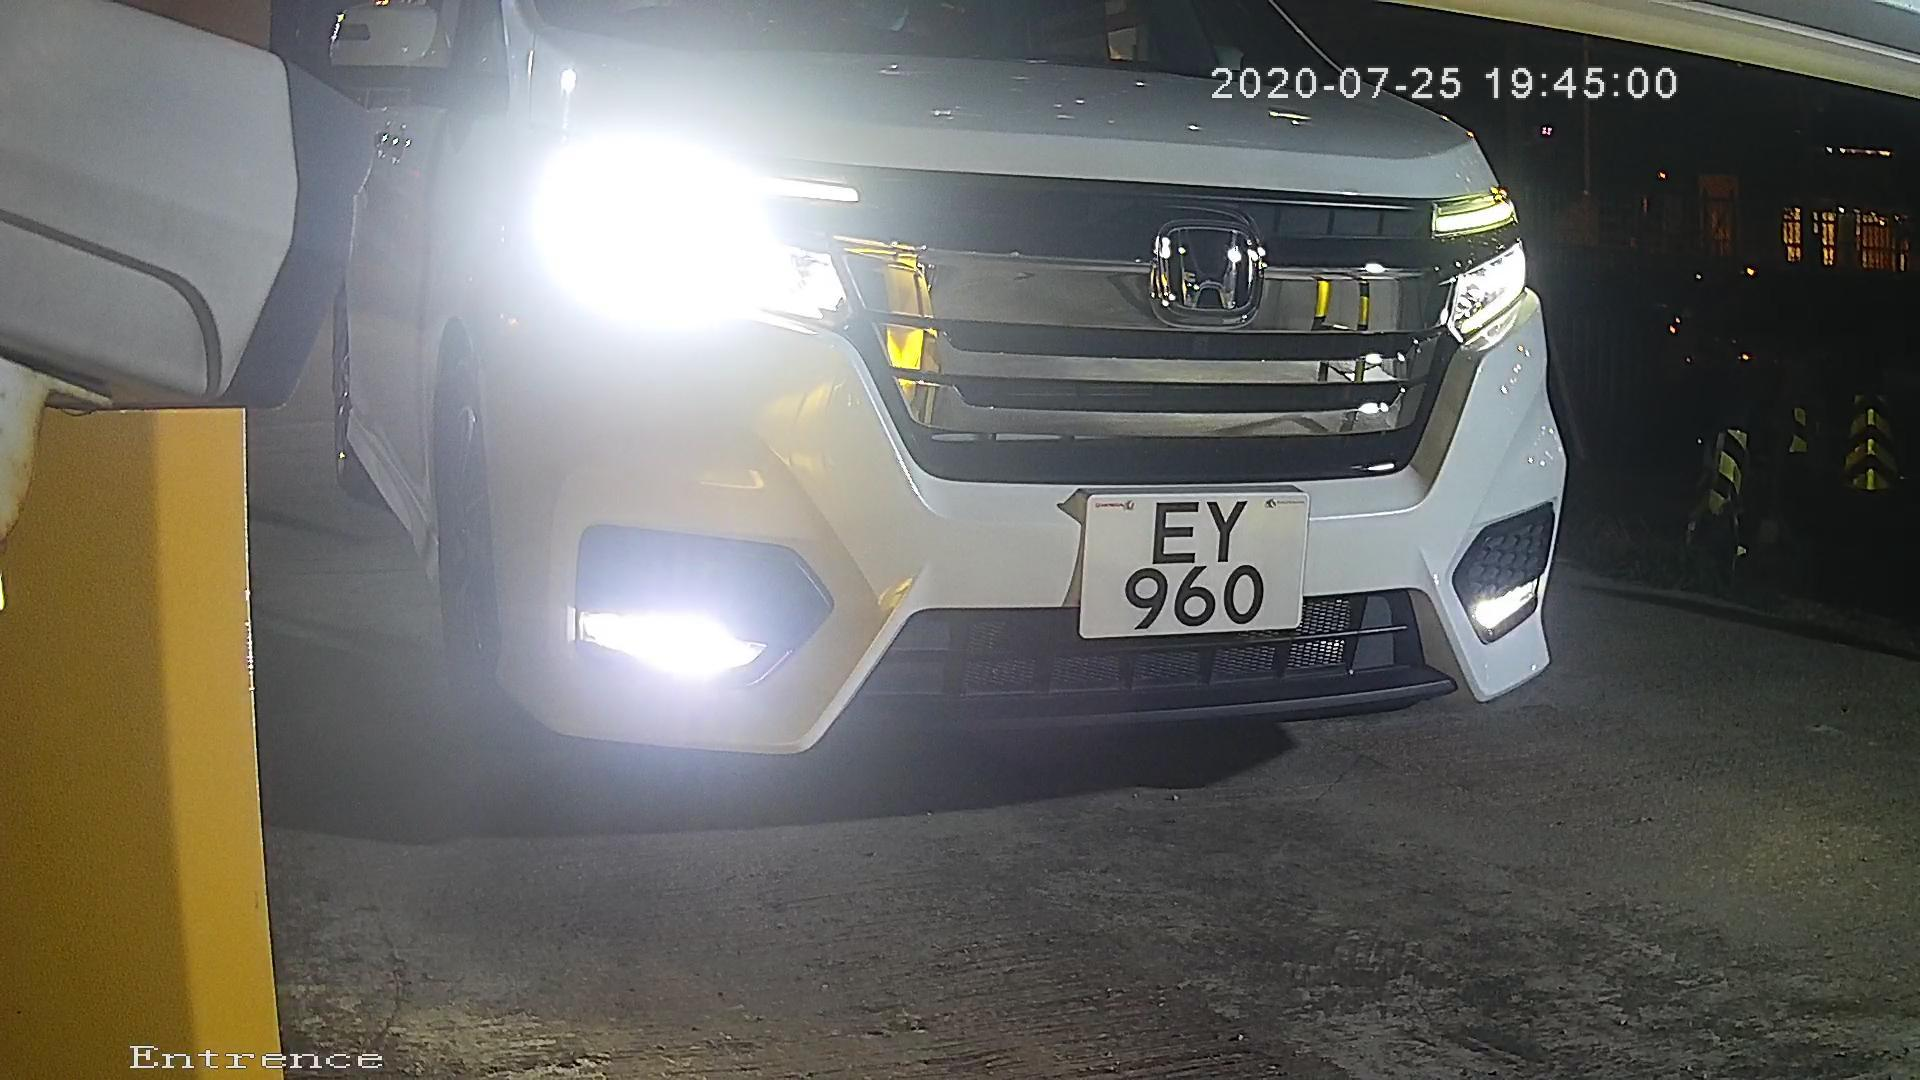privatecar: (266, 3, 1633, 790)
